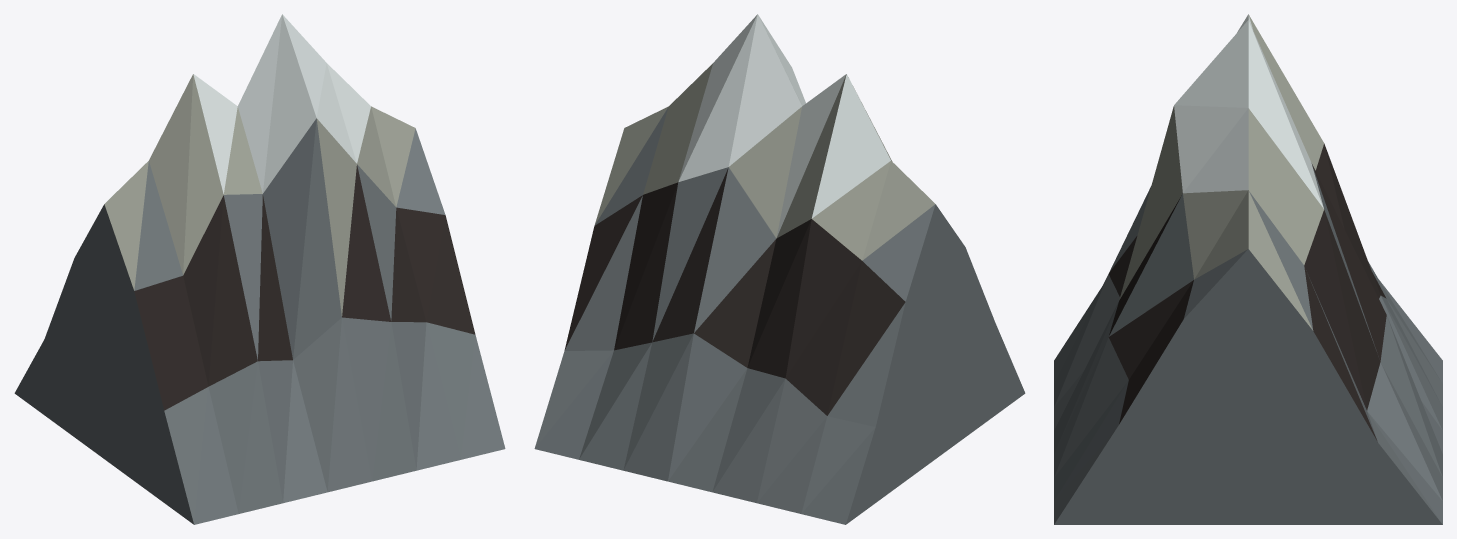
The model's file is Mountain_A.fbx.
3 views of the same model, side by side, from view 1: azimuth 30°, elevation 25°; view 2: azimuth 150°, elevation 25°; view 3: azimuth 270°, elevation 25° (orthographic). The views are drawn at different scales.
Visible parts, largest first — view 1: Mountain_A; view 2: Mountain_A; view 3: Mountain_A.
Boxes of the visible parts, x1,y1,x2,y2 form: Mountain_A: (14,14,505,524); Mountain_A: (534,14,1025,524); Mountain_A: (1054,14,1442,524).
Size of the model in its own units: 3 by 3.7 by 3.
Materials: 1 (1 with a texture image).
